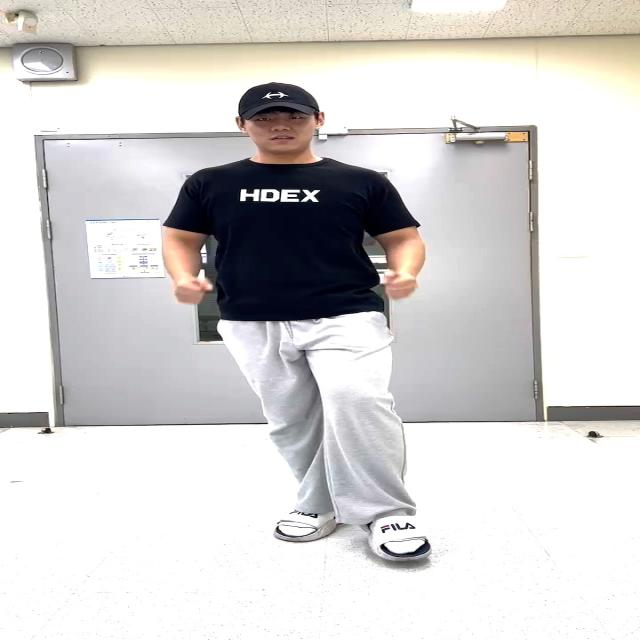leg: (323, 340, 483, 583)
